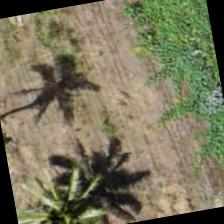Kelapa_Sawit: (10, 163, 111, 223)
